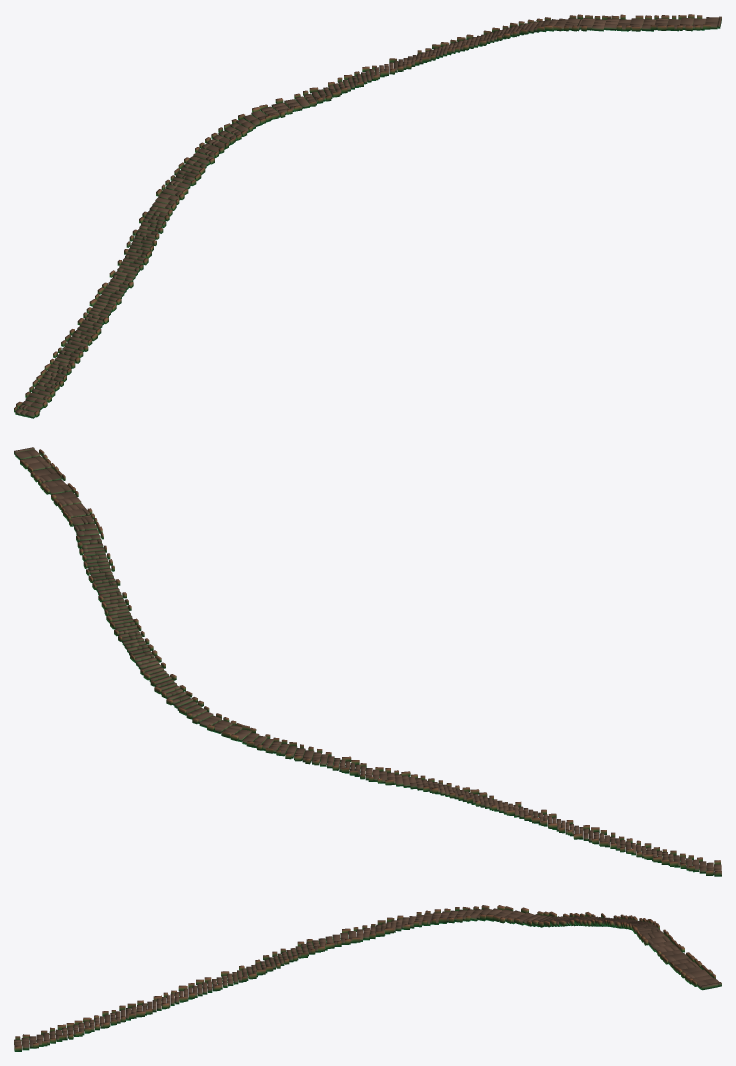
The model's file is headland_path.glb.
3 renders of one model, top to bottom at view 1: azimuth 30°, elevation 25°; view 2: azimuth 150°, elevation 25°; view 3: azimuth 330°, elevation 25°, orthographic. The views are drawn at different scales.
Parts seen in each view (by area): view 1: headland_path; view 2: headland_path; view 3: headland_path.
Boxes of the visible parts, bbox=[...] form: headland_path: bbox=[14, 14, 721, 418]; headland_path: bbox=[14, 447, 721, 876]; headland_path: bbox=[14, 905, 721, 1051].
Size of what is drawn, in the model's own units: 84.58 by 27.42 by 28.5.
